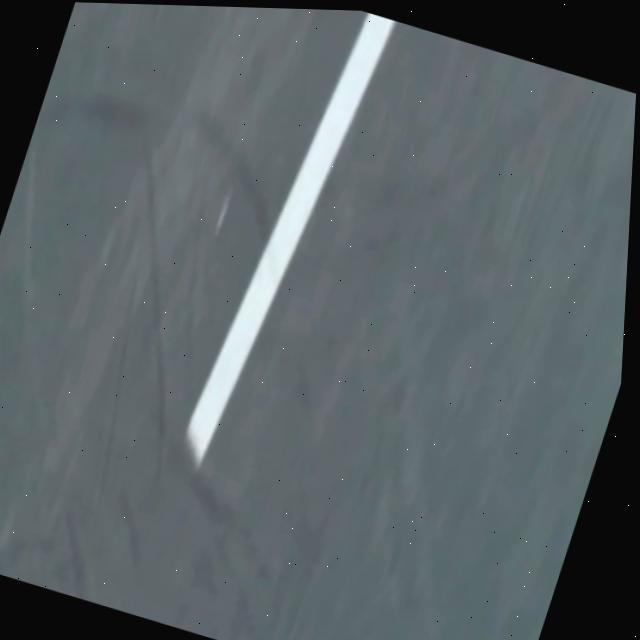center: (188, 12, 396, 464)
